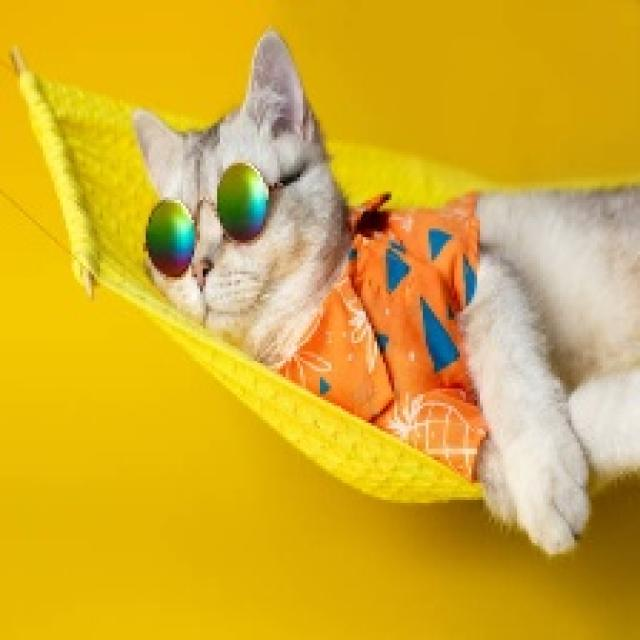bear: (61, 19, 640, 587)
